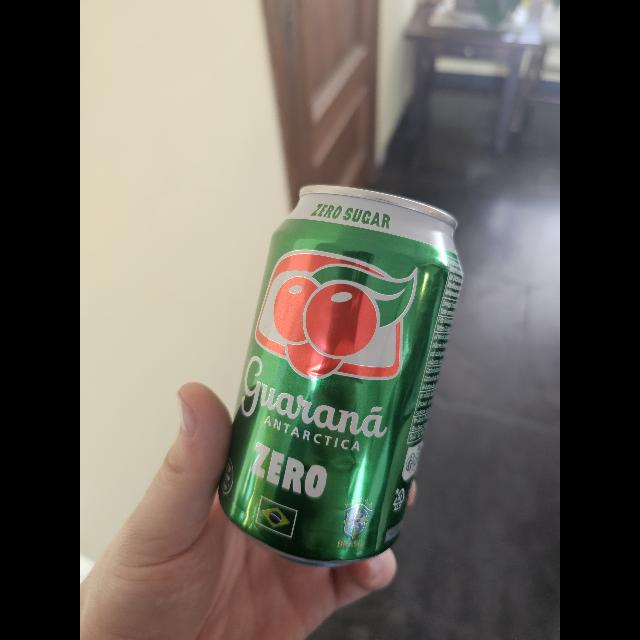Metal: (212, 184, 470, 576)
